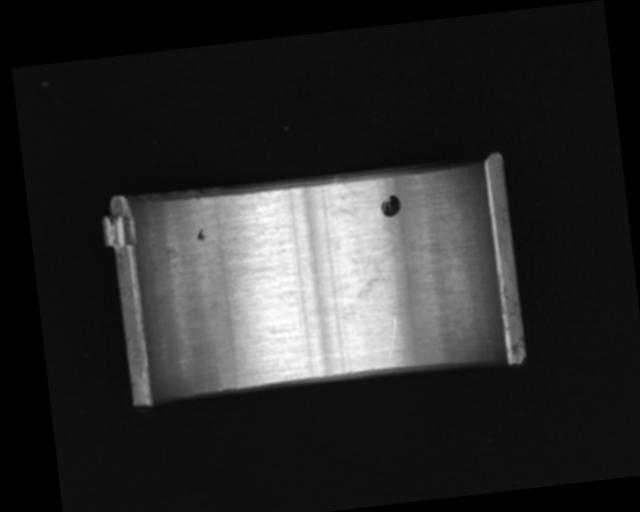blot: (350, 245, 406, 305), (378, 193, 402, 218)
bruise: (195, 227, 207, 243)
nick: (381, 317, 402, 363)
